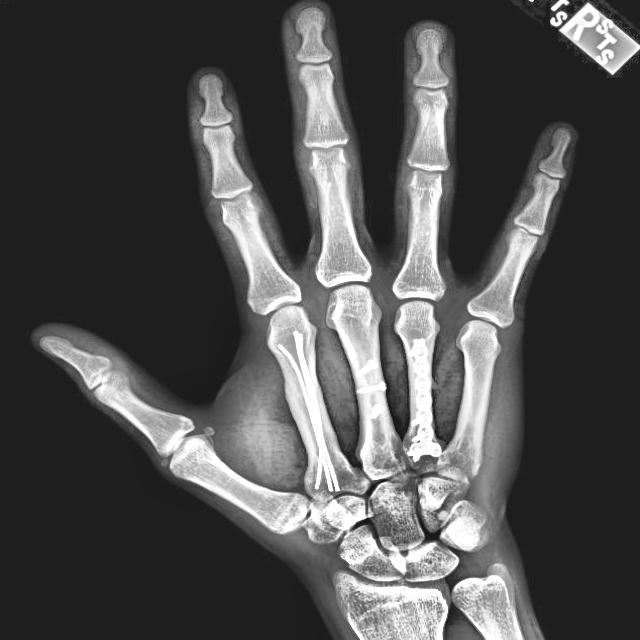fracture: (275, 327, 342, 499), (406, 332, 445, 464), (351, 354, 391, 423)
